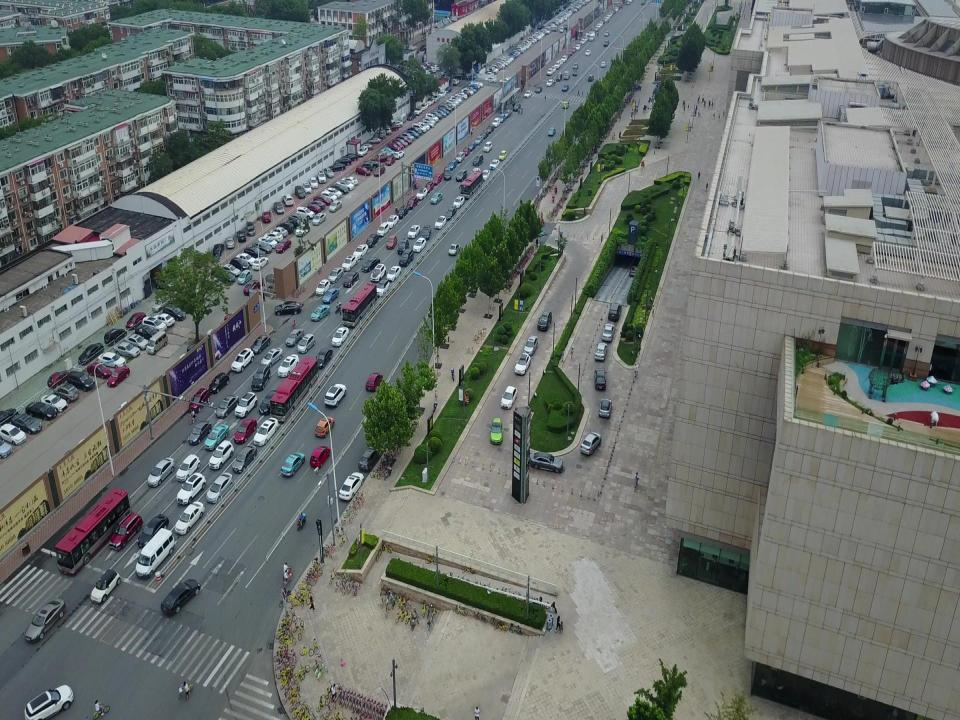bus: (270, 356, 320, 421), (343, 280, 378, 325), (460, 170, 482, 197)
car: (135, 528, 175, 578), (23, 684, 75, 719), (24, 599, 66, 642), (160, 578, 200, 616), (109, 512, 144, 552), (138, 512, 169, 548), (174, 500, 204, 536), (91, 568, 121, 602), (176, 472, 206, 506), (208, 439, 235, 470), (253, 417, 280, 448), (207, 472, 233, 504), (529, 449, 563, 473), (147, 457, 175, 486), (338, 472, 364, 502), (232, 444, 258, 472), (176, 454, 201, 482), (12, 412, 42, 435), (280, 452, 306, 478), (205, 423, 229, 451), (25, 402, 58, 421), (233, 419, 257, 444), (235, 392, 259, 417), (215, 393, 239, 418), (0, 423, 27, 445), (67, 370, 95, 391), (188, 420, 212, 444), (323, 384, 347, 408), (232, 348, 254, 374), (40, 393, 68, 413), (276, 354, 300, 377), (146, 330, 168, 355), (251, 364, 271, 391), (77, 343, 104, 363), (97, 350, 127, 368), (580, 432, 602, 456), (188, 387, 209, 411), (106, 367, 131, 387), (261, 348, 284, 369), (54, 384, 80, 402), (114, 341, 140, 359), (207, 373, 230, 393), (310, 446, 330, 469), (274, 301, 302, 317), (500, 385, 518, 409), (124, 333, 148, 351), (315, 416, 335, 437), (251, 335, 272, 355), (513, 353, 531, 376), (46, 371, 70, 388), (162, 304, 186, 321), (260, 391, 276, 416), (142, 316, 167, 332), (359, 448, 377, 470), (125, 311, 147, 329), (365, 371, 383, 391), (285, 328, 305, 346), (298, 333, 316, 353), (87, 363, 111, 378), (316, 347, 333, 368), (536, 310, 552, 332), (490, 417, 503, 444), (311, 304, 331, 321), (523, 335, 539, 356), (103, 328, 125, 343), (212, 270, 235, 284), (332, 327, 348, 347), (370, 263, 386, 283), (151, 314, 175, 327), (374, 279, 390, 298), (598, 398, 612, 419), (343, 271, 360, 288), (399, 248, 415, 266), (275, 237, 293, 253), (594, 342, 608, 362), (594, 367, 606, 390), (243, 246, 266, 258), (323, 287, 340, 303), (362, 257, 380, 272), (0, 409, 18, 424), (608, 302, 622, 321), (221, 264, 240, 278), (258, 236, 278, 249), (316, 279, 332, 295), (353, 244, 369, 260), (386, 266, 402, 282), (328, 266, 343, 283), (152, 297, 169, 312), (295, 222, 312, 237), (236, 252, 254, 266), (296, 205, 314, 219), (0, 440, 13, 459), (244, 280, 260, 295), (237, 269, 253, 284), (229, 257, 249, 269), (252, 241, 272, 253), (313, 192, 331, 205), (337, 179, 355, 192), (264, 231, 283, 243), (602, 324, 615, 341), (434, 214, 447, 231), (252, 257, 270, 269), (343, 255, 357, 270), (413, 237, 427, 252), (366, 233, 380, 248), (324, 187, 343, 198), (330, 183, 348, 194), (397, 238, 409, 254), (288, 213, 307, 223), (271, 227, 288, 238), (410, 122, 427, 133), (386, 234, 398, 249), (378, 222, 390, 237), (408, 224, 420, 239), (320, 191, 338, 201), (294, 185, 306, 200), (328, 162, 346, 172), (363, 159, 381, 169), (278, 222, 294, 233), (355, 165, 371, 176), (421, 224, 431, 241), (390, 139, 404, 151), (341, 176, 359, 185), (378, 146, 396, 155), (420, 116, 436, 126), (448, 243, 461, 255), (407, 195, 419, 208), (416, 187, 428, 200), (212, 242, 224, 255), (313, 213, 326, 225), (376, 151, 390, 162), (430, 109, 447, 118), (246, 221, 256, 236), (445, 208, 457, 220), (452, 196, 464, 208), (472, 154, 484, 166), (456, 169, 468, 181), (335, 157, 351, 166), (342, 153, 358, 162), (357, 145, 369, 157), (415, 122, 431, 131), (430, 193, 443, 204), (329, 201, 342, 212), (386, 142, 400, 152), (311, 200, 326, 209), (387, 215, 398, 227), (398, 206, 409, 218), (432, 173, 444, 184), (374, 166, 386, 177), (273, 201, 283, 214), (398, 136, 411, 146), (401, 131, 414, 141), (306, 204, 320, 213), (408, 126, 422, 135), (438, 103, 452, 112), (460, 87, 474, 96), (236, 230, 246, 242), (406, 129, 418, 139), (283, 194, 292, 207), (419, 120, 435, 127), (454, 92, 468, 100), (469, 80, 483, 88), (455, 151, 465, 162), (483, 141, 493, 152), (490, 159, 500, 170), (302, 182, 312, 193), (324, 167, 334, 178), (317, 171, 326, 183), (374, 130, 386, 139), (395, 138, 407, 147), (442, 101, 454, 110), (444, 166, 451, 181), (428, 111, 441, 119), (406, 111, 416, 121), (385, 155, 395, 165), (425, 181, 434, 192), (226, 236, 234, 248), (262, 211, 270, 223), (362, 142, 374, 150), (387, 124, 399, 132), (390, 120, 402, 128), (446, 98, 458, 106), (425, 114, 438, 121), (447, 160, 457, 169), (503, 109, 513, 118), (394, 150, 404, 159), (434, 109, 449, 115), (482, 169, 490, 180), (493, 117, 501, 128), (310, 177, 318, 188), (367, 138, 381, 144), (450, 96, 462, 103), (464, 86, 476, 93), (474, 134, 482, 144), (382, 127, 392, 135), (547, 127, 555, 136), (486, 124, 494, 133), (513, 103, 521, 112), (414, 106, 422, 115), (421, 102, 429, 111), (433, 94, 441, 103), (466, 83, 478, 89), (468, 143, 476, 151), (524, 90, 532, 98), (535, 86, 543, 94), (439, 90, 447, 98), (499, 151, 506, 160), (481, 130, 488, 139), (564, 70, 570, 80), (546, 79, 554, 86), (562, 101, 569, 109), (444, 86, 452, 93), (451, 78, 459, 85), (464, 146, 470, 155), (499, 114, 505, 123), (556, 72, 562, 80), (589, 33, 595, 41), (428, 98, 434, 106), (562, 84, 568, 91), (547, 68, 553, 75), (554, 61, 560, 68), (572, 62, 578, 69), (588, 75, 594, 82), (551, 66, 556, 74), (558, 59, 564, 65), (561, 56, 567, 62), (600, 62, 606, 68), (603, 40, 609, 46), (578, 41, 582, 49), (573, 70, 578, 76), (586, 50, 590, 57), (576, 44, 580, 51), (604, 30, 608, 36), (568, 50, 572, 56), (594, 25, 598, 31), (596, 22, 600, 28), (614, 6, 618, 12), (572, 47, 576, 52), (580, 38, 584, 43), (584, 36, 588, 41), (605, 14, 609, 19), (603, 18, 607, 22), (608, 12, 612, 16), (600, 21, 603, 25)
